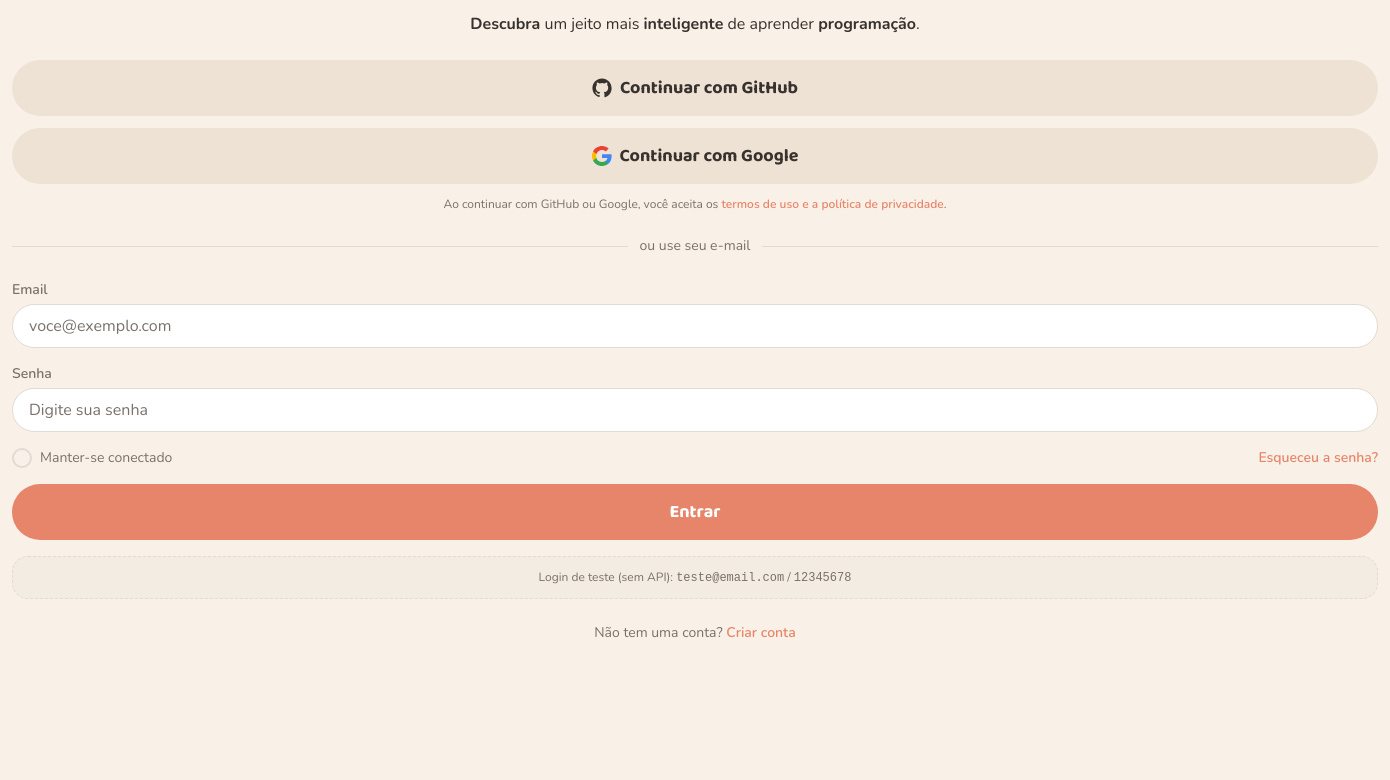
it: validação › recusa e-mail malformado
Type "nao-e-email" into the field labelled "Email" at (695, 326), box [12,304,1378,348]
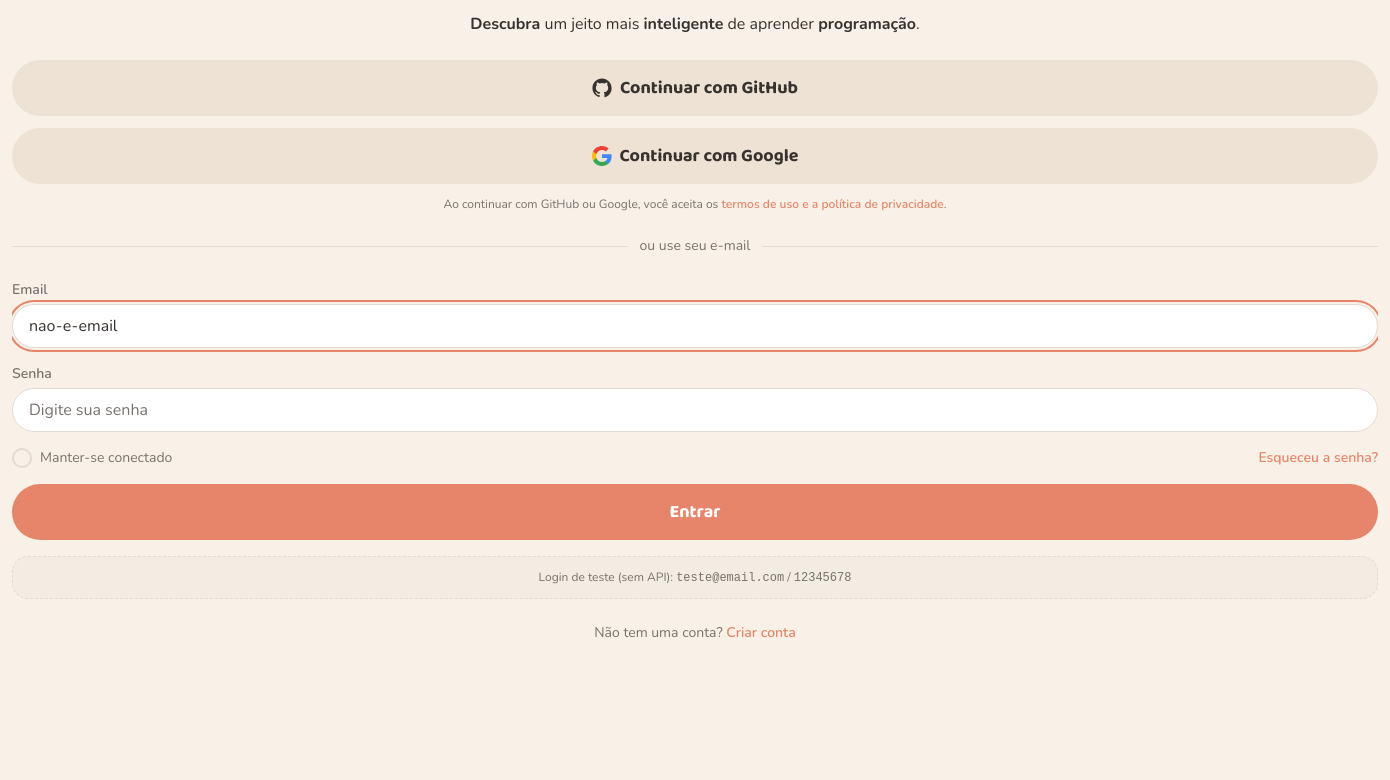
Type "senha-boa-2026" into the password field labelled "Senha" at (695, 410), box [12,388,1378,432]
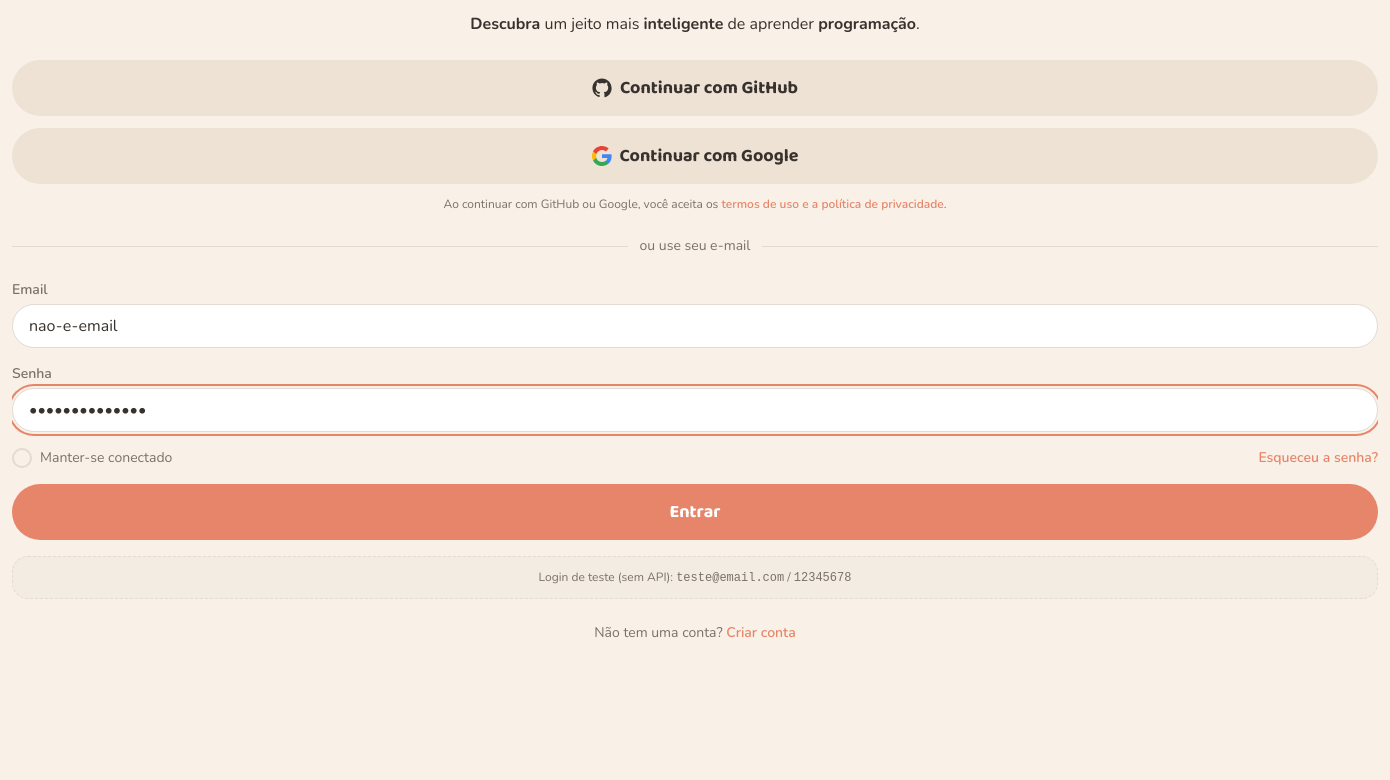
Click the button "Entrar" at (695, 512), box [12,484,1378,540]
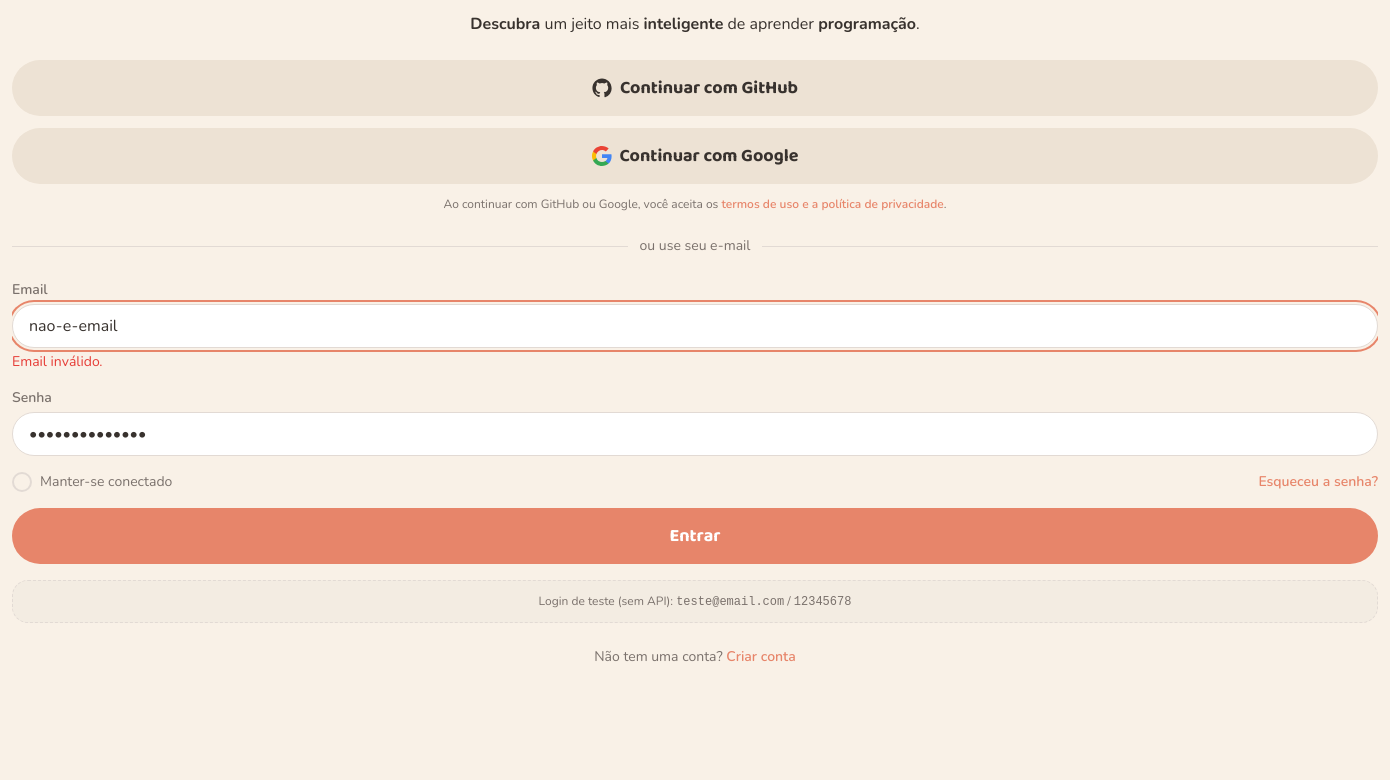
Check: the text "Email inválido." is shown, box [12,352,103,371]
